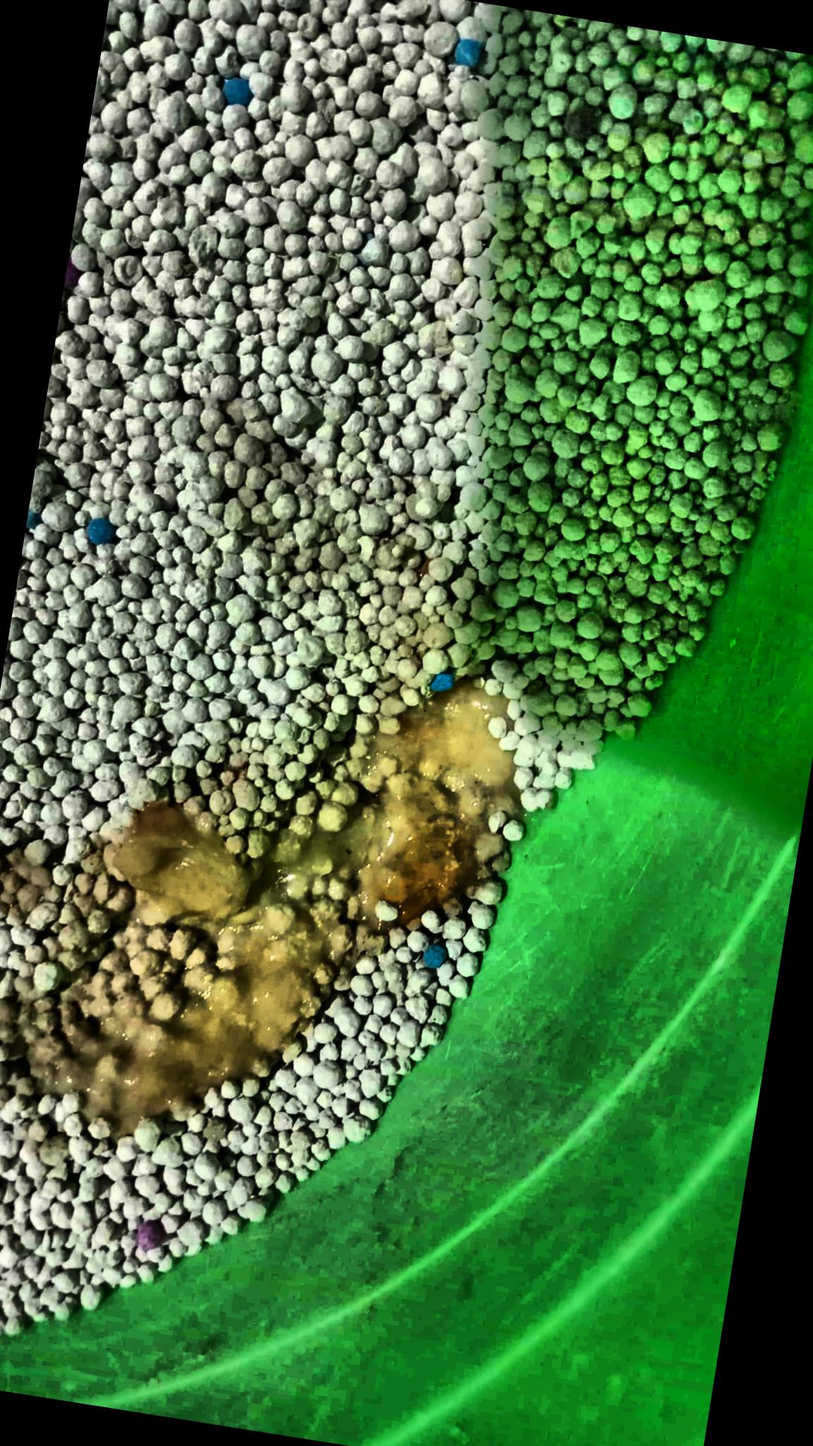poop: (21, 689, 511, 1135)
